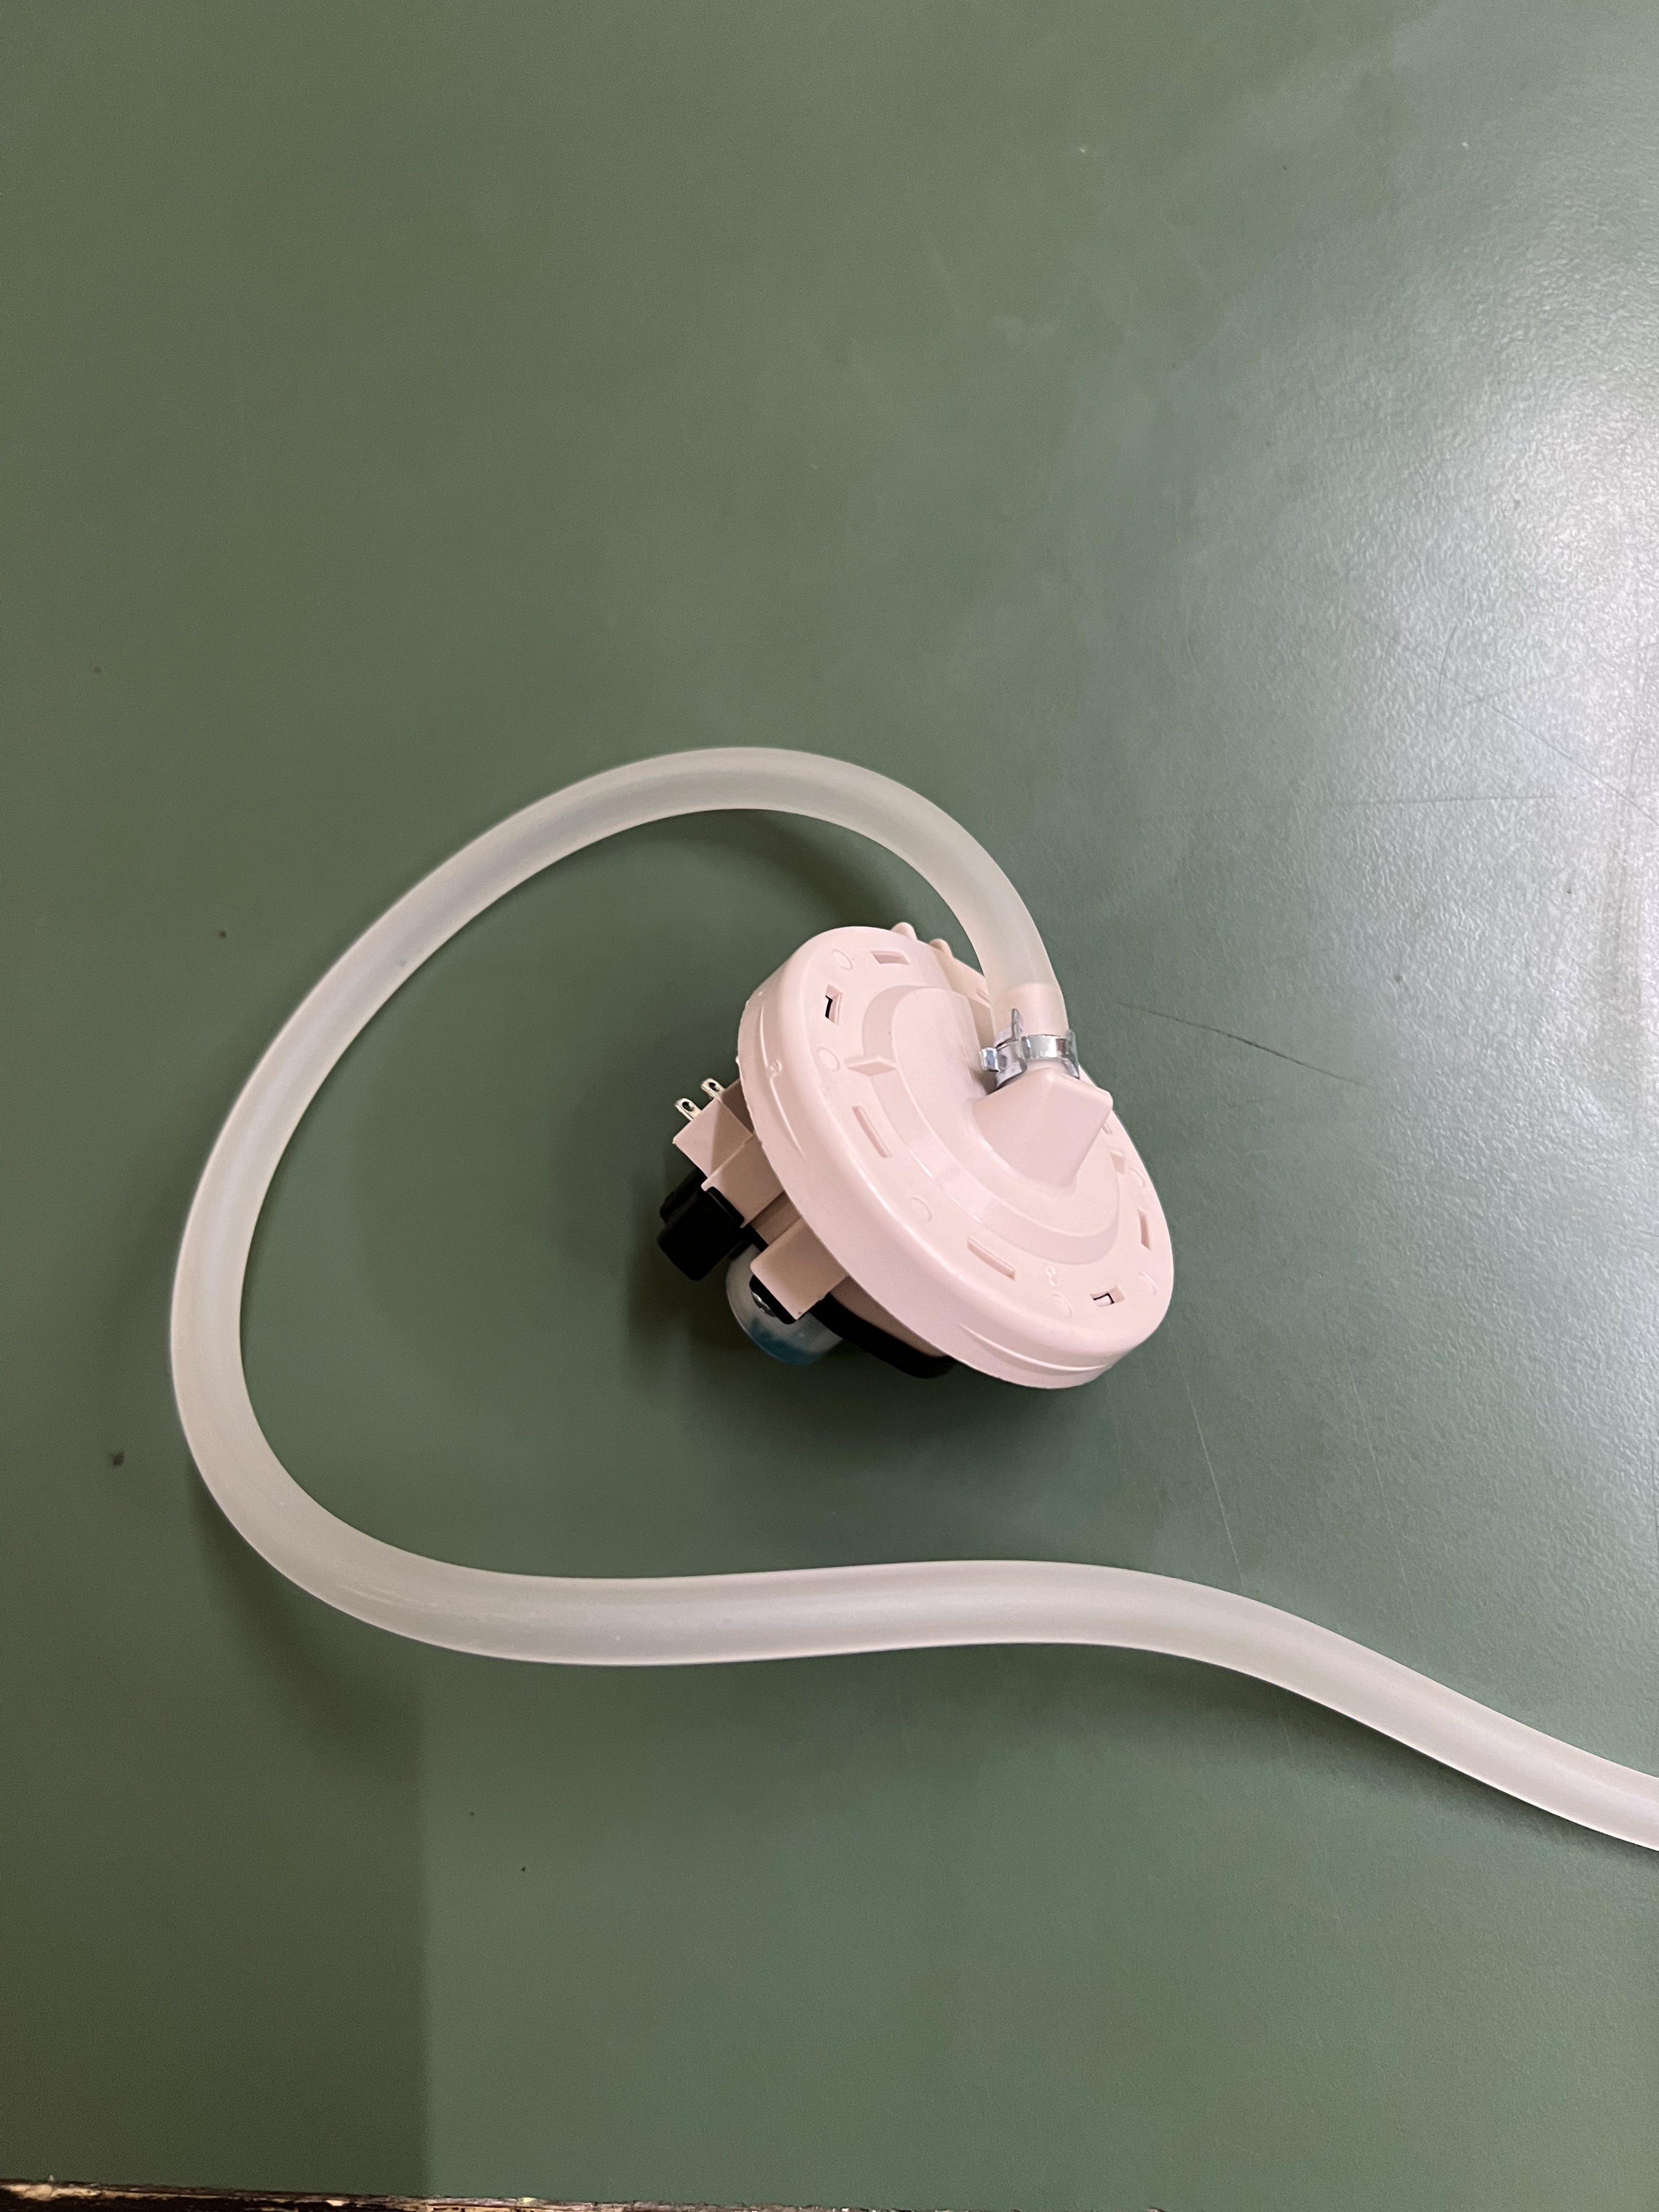pressure_sensor: (195, 756, 1223, 1651)
